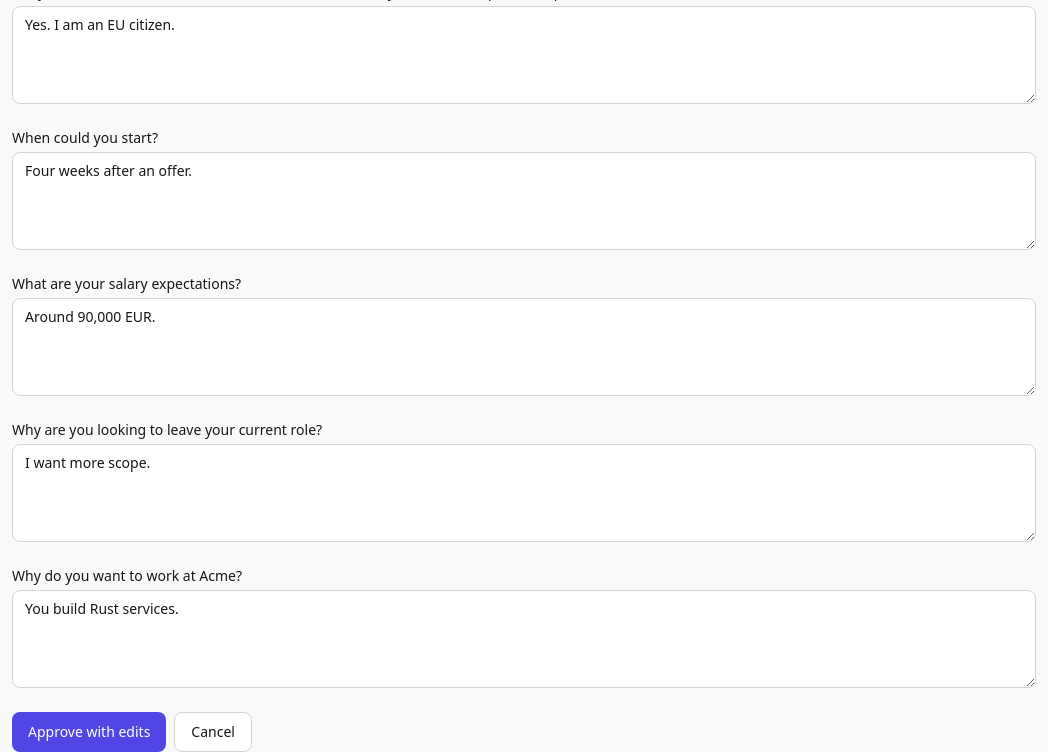
Test: PacketAnswerEditor › shows the server's 422 message above the buttons
The image size is (1048, 752).
(page scrolled)
Step 1. Click the button "Approve with edits" → (89, 732), box [12,712,166,751]
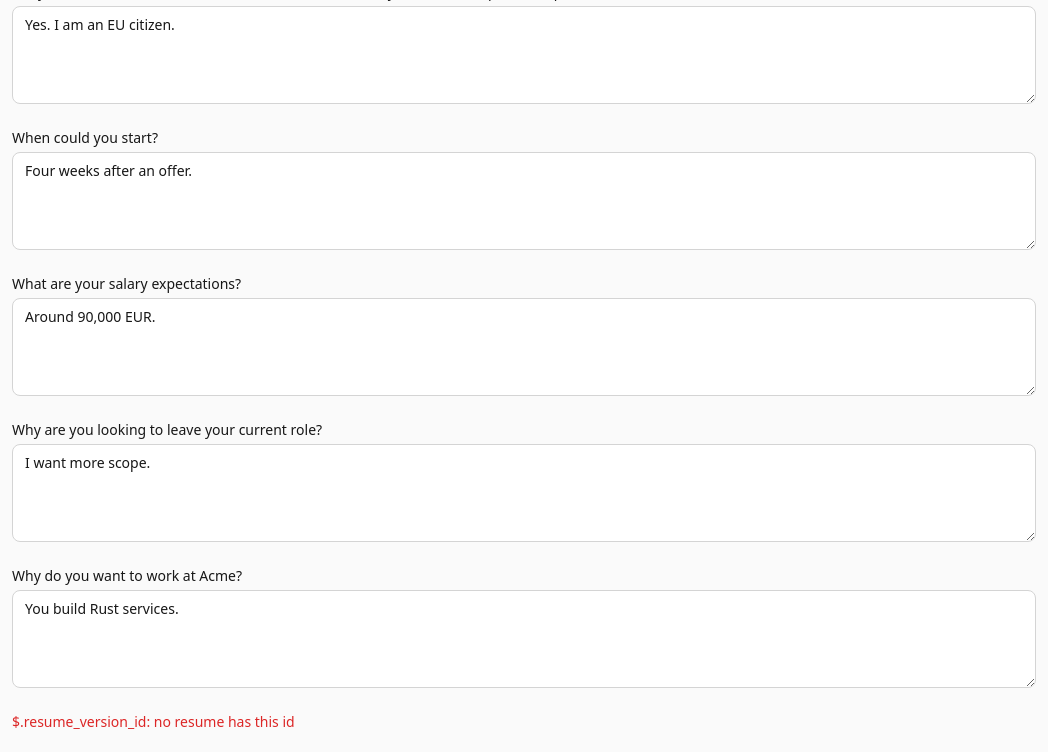
Expected: the message reads "$.resume_version_id: no resume has this id", [12,712,295,731]
